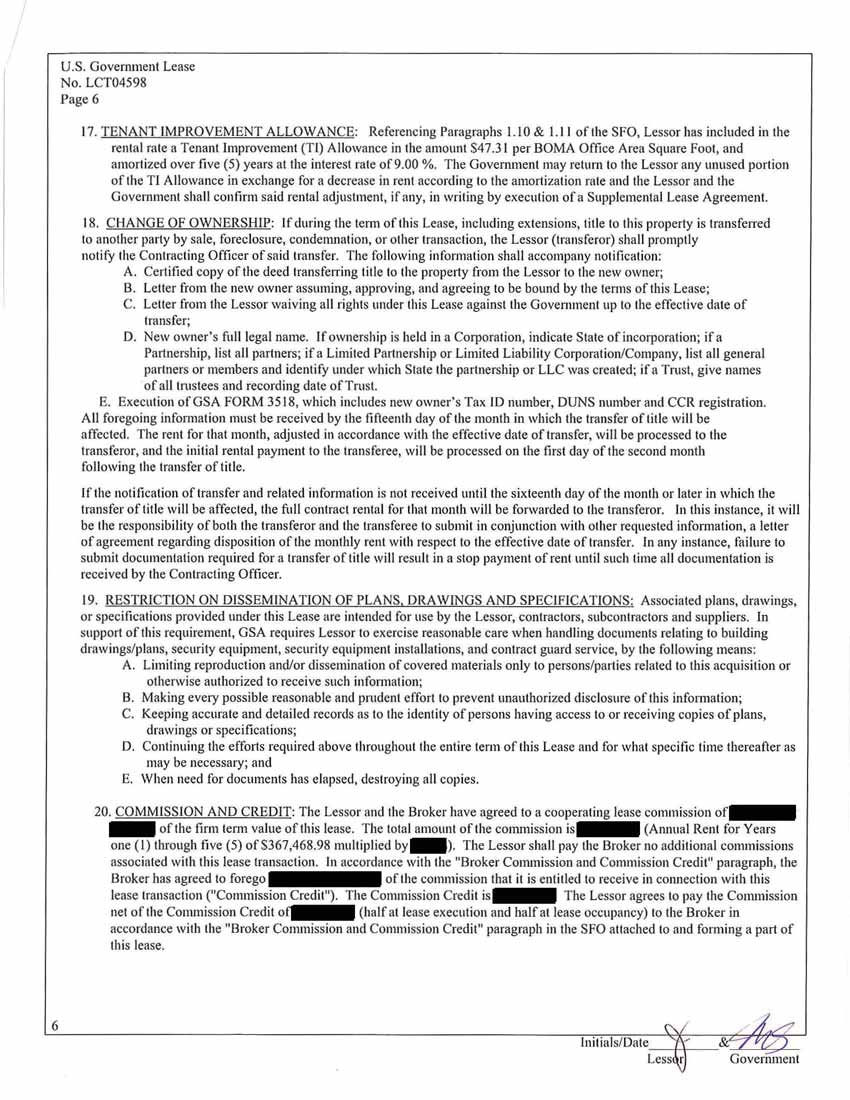handwritten: (726, 1009, 800, 1052), (662, 1018, 696, 1068)
